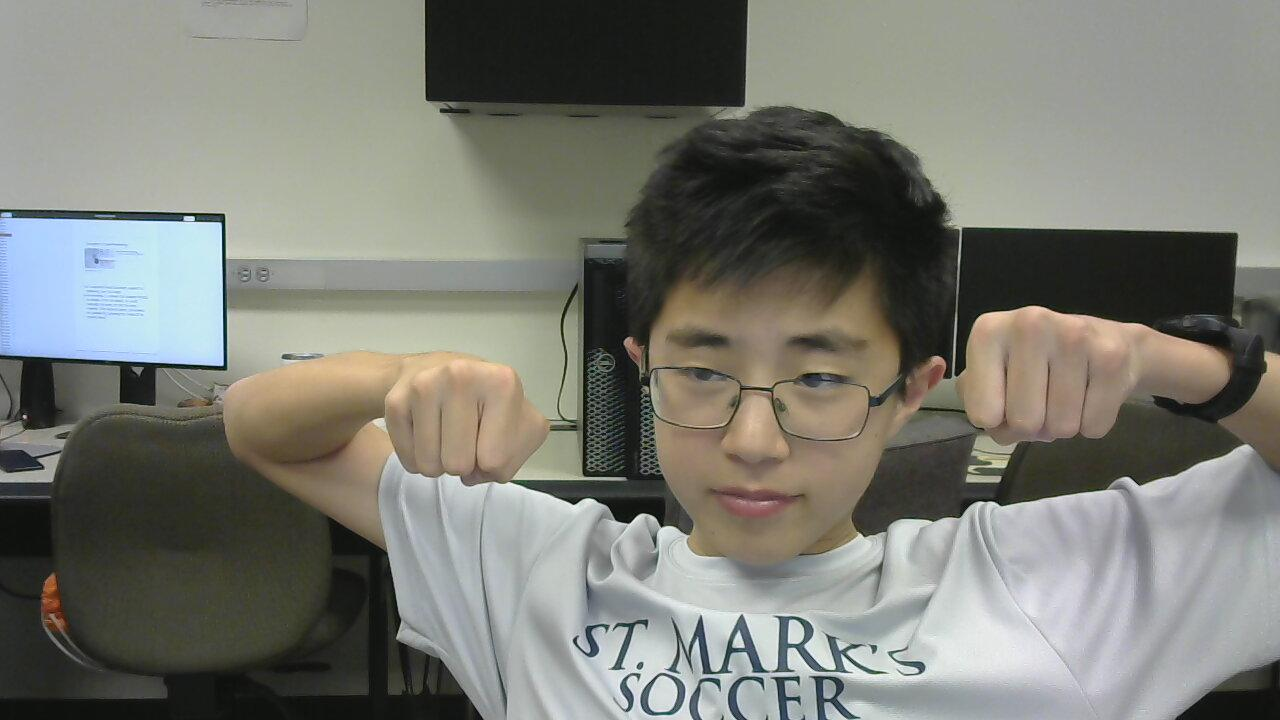fist: (966, 297, 1150, 463), (363, 344, 545, 486)
